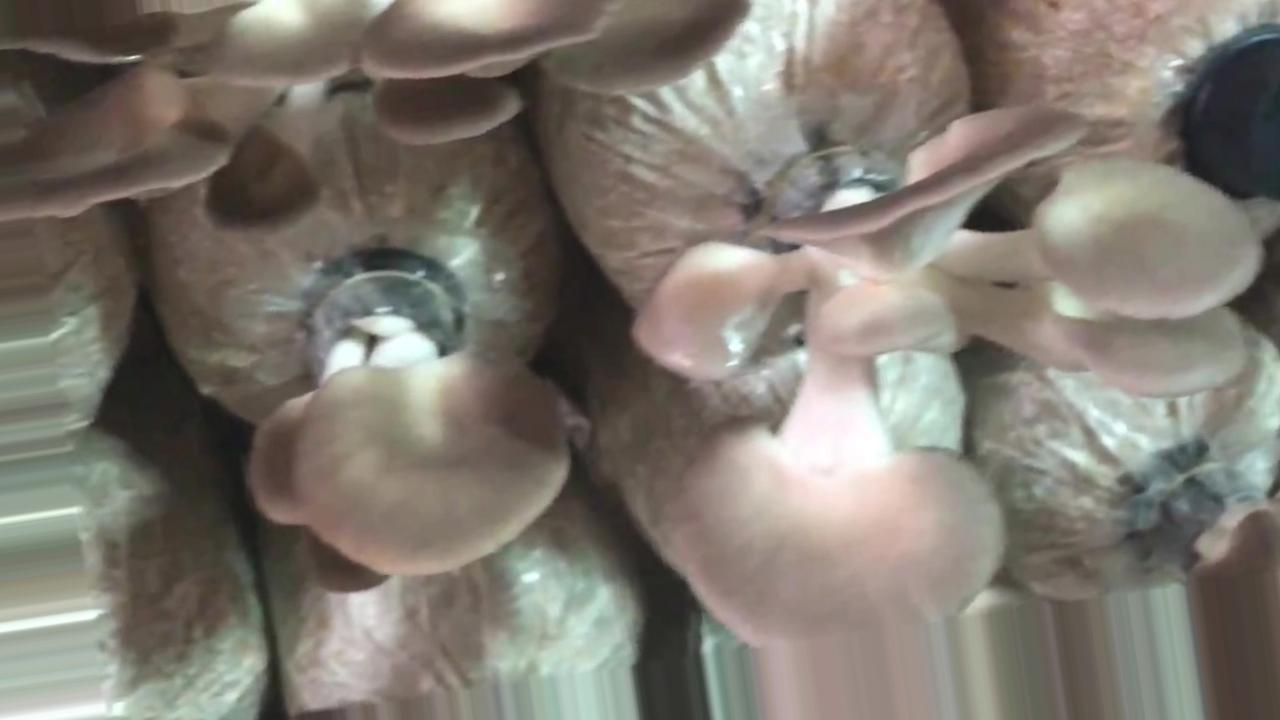nam: (628, 105, 1280, 651), (5, 1, 757, 239), (241, 246, 570, 596)
